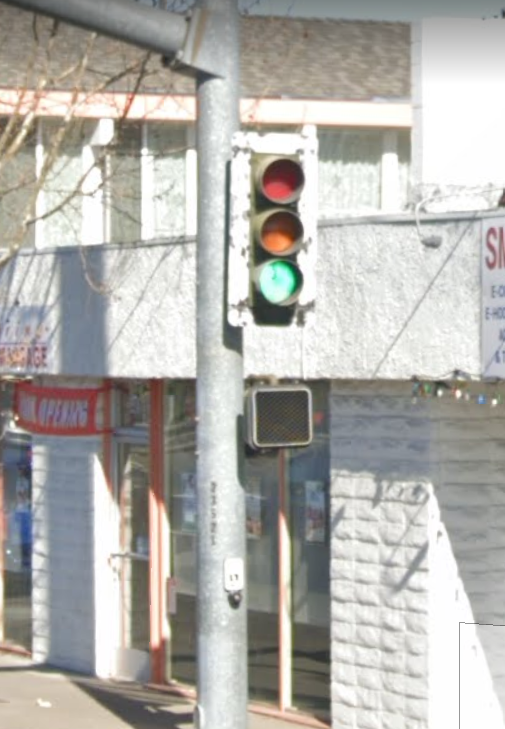green_light: (238, 143, 311, 319)
